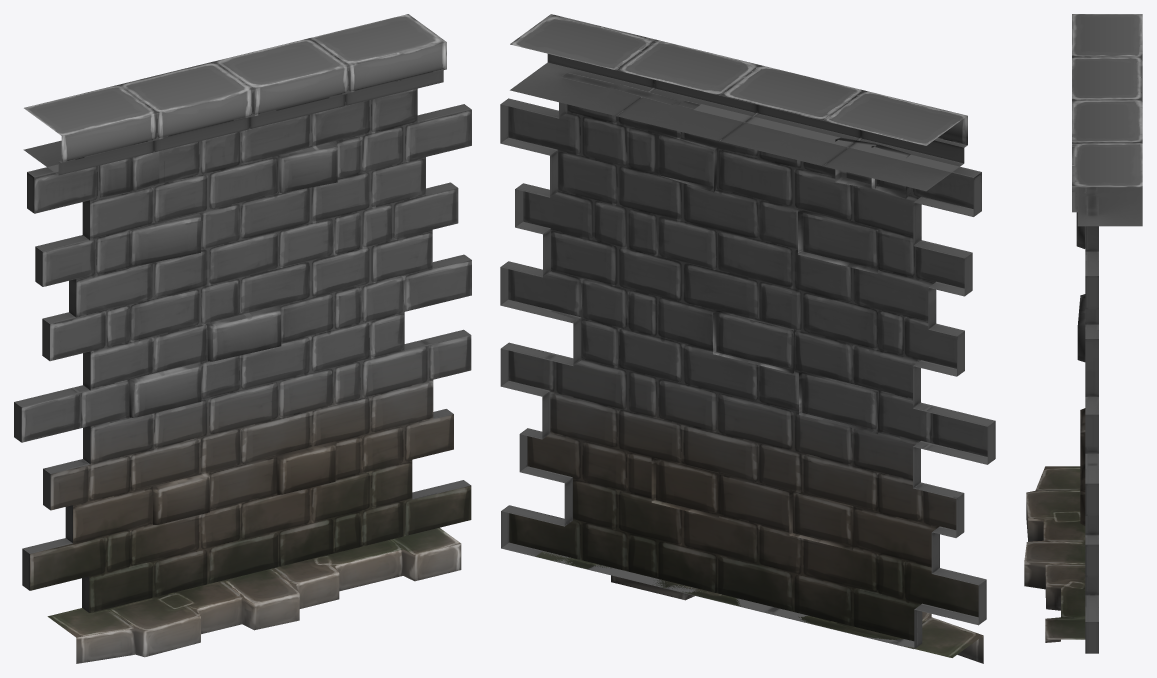
File: BD_Wall_Straight.fbx
The picture shows the model from 3 angles, left to right: view 1: azimuth 30°, elevation 25°; view 2: azimuth 150°, elevation 25°; view 3: azimuth 270°, elevation 25°; orthographic projection. The views are drawn at different scales.
Parts seen in each view (by area): view 1: BD_Wall_Straight; view 2: BD_Wall_Straight; view 3: BD_Wall_Straight.
Part boxes in pixels (box(x1,y1,x2,y2)): BD_Wall_Straight: box(14, 14, 471, 663); BD_Wall_Straight: box(500, 14, 995, 663); BD_Wall_Straight: box(1024, 14, 1142, 653).
Bounding box in the file's own units: 4.68 × 5.13 × 1.16.
